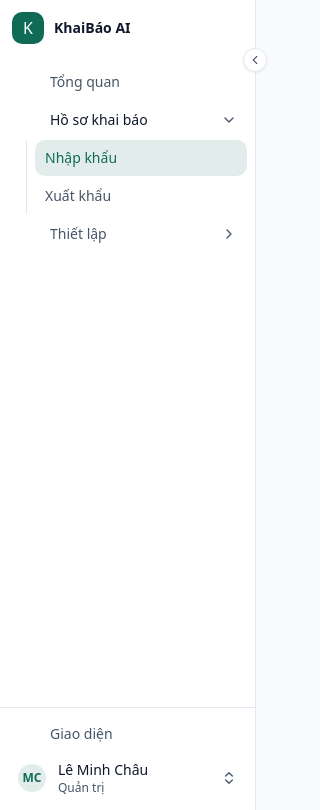
Sidebar › chân sidebar: người dùng hiện tên + vai trò; thu gọn vẫn đọc được tên
Expected: the text "Lê Minh Châu" is shown, [58,760,148,779]
Expected: the text "MC" is shown, [18,764,46,792]
What coordinates should you click on to do the following:
click the button named "Thu gọn menu"
I would click on:
 (255, 60)
Its box is [243,48,267,72].
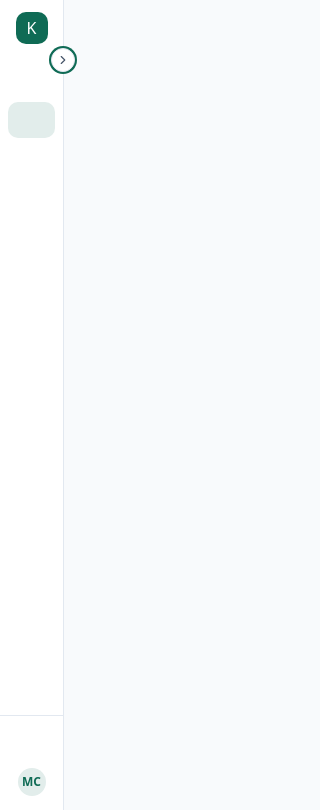
Now the button with aria-label "Lê Minh Châu, Quản trị" is shown, box [8,762,55,802]
